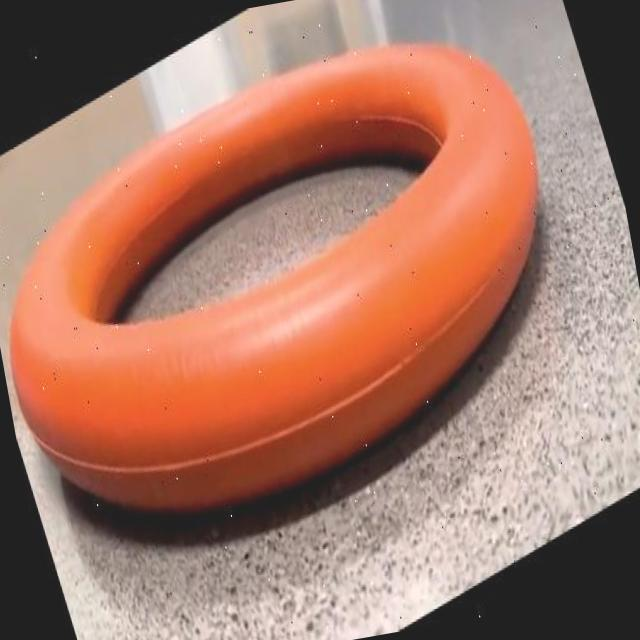note: (9, 42, 537, 509)
